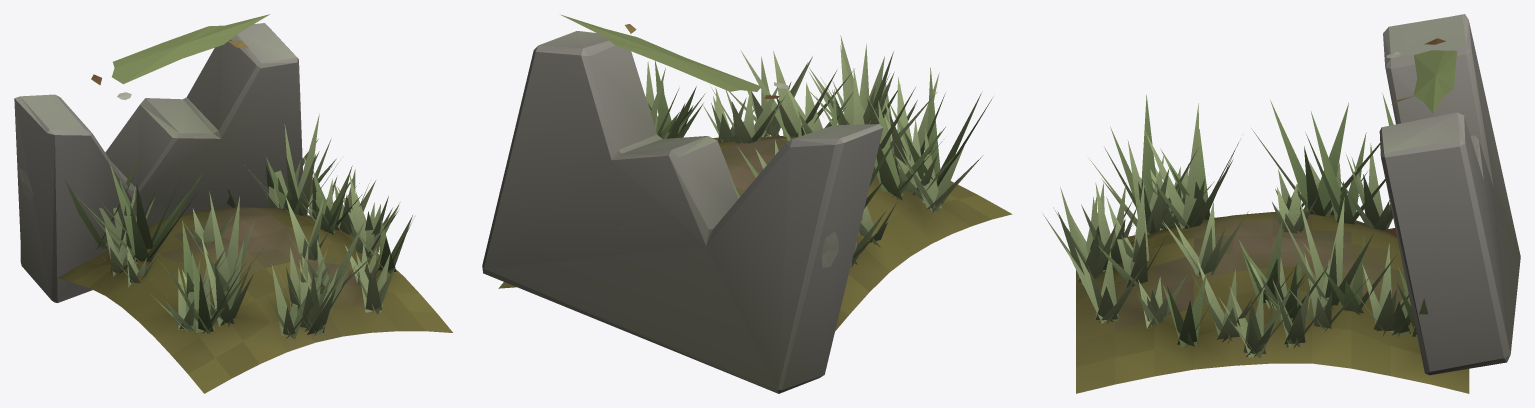
The model's file is headstone_c.glb.
3 views of the same model, side by side, from view 1: azimuth 30°, elevation 25°; view 2: azimuth 150°, elevation 25°; view 3: azimuth 270°, elevation 25° (orthographic). The views are drawn at different scales.
Parts seen in each view (by area): view 1: headstone_c; view 2: headstone_c; view 3: headstone_c.
Part boxes in pixels (x1,y1,x2,y2): headstone_c: (14,14,452,393); headstone_c: (482,14,1012,393); headstone_c: (1043,14,1520,393).
Bounding box in the file's own units: 1.11 × 0.8642 × 1.32.
